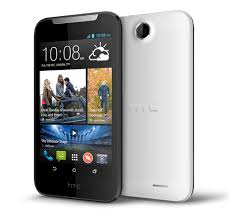htc: (32, 10, 123, 201), (118, 8, 198, 203)
